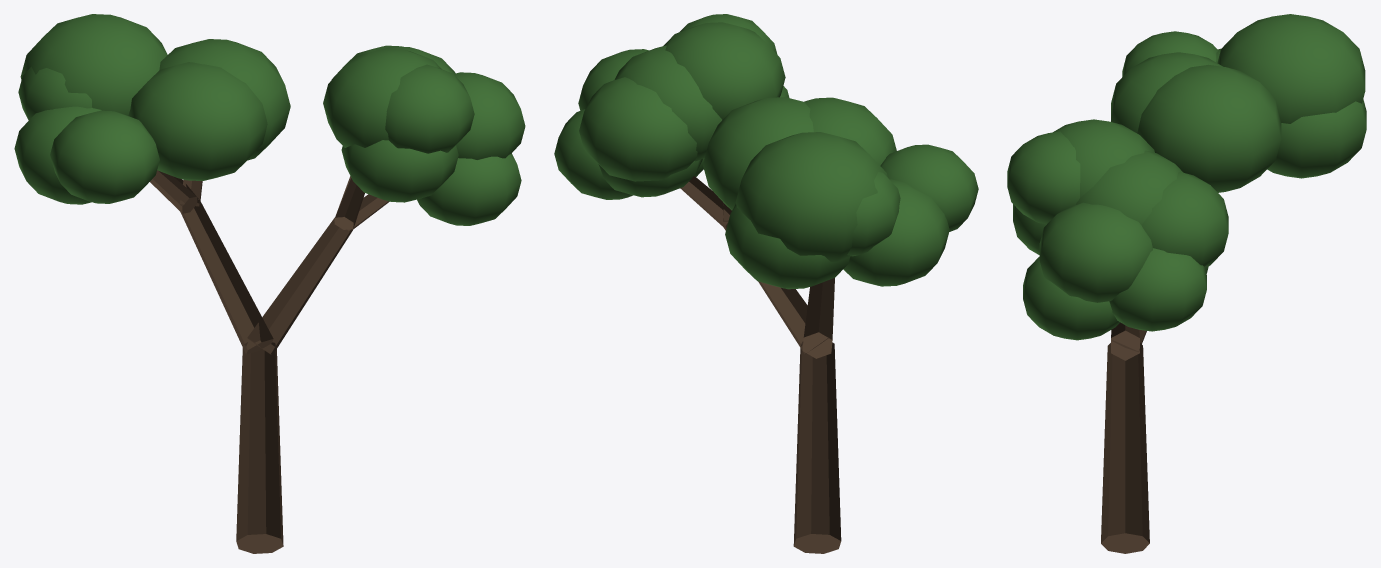
Rendered from tree-broadleaf-2.glb.
The picture shows the model from 3 angles, left to right: view 1: azimuth 30°, elevation 25°; view 2: azimuth 150°, elevation 25°; view 3: azimuth 270°, elevation 25°; orthographic projection.
Visible parts, largest first — view 1: tree-broadleaf-2; view 2: tree-broadleaf-2; view 3: tree-broadleaf-2.
Boxes of the visible parts, left/top/right/bottom form: tree-broadleaf-2: left=14, top=14, right=525, bottom=553; tree-broadleaf-2: left=554, top=14, right=978, bottom=553; tree-broadleaf-2: left=1007, top=14, right=1366, bottom=553.
Size of the model in its own units: 5.85 by 6.34 by 4.28.
